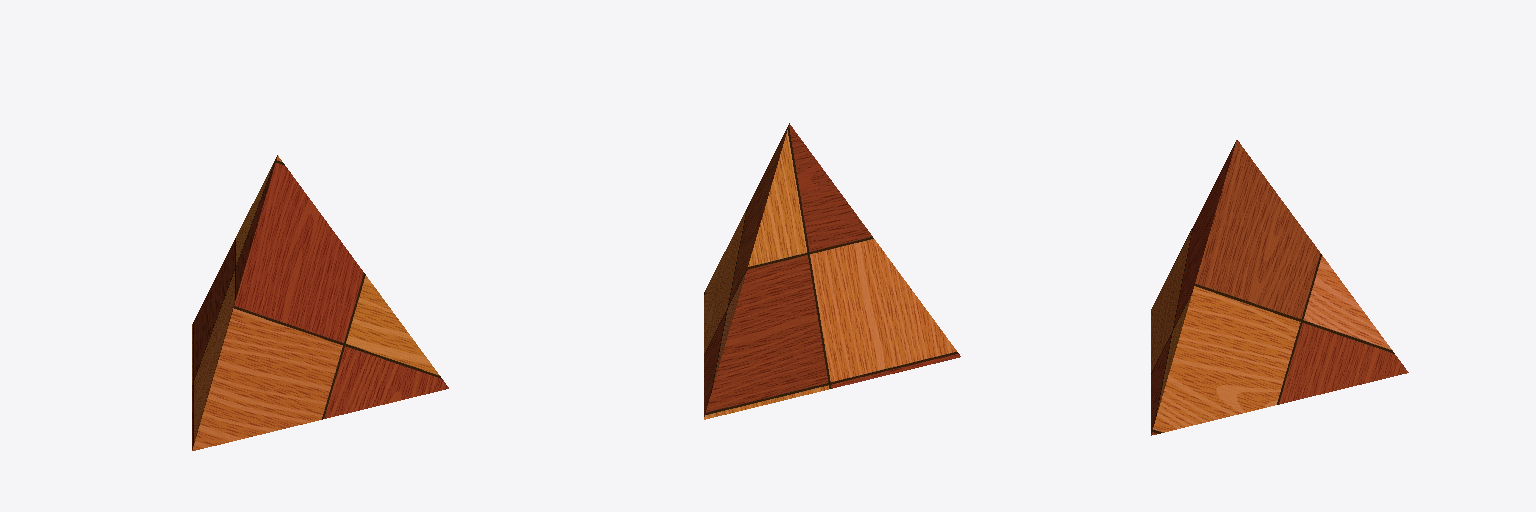
The picture shows the model from 3 angles: view 1: azimuth 30°, elevation 25°; view 2: azimuth 150°, elevation 25°; view 3: azimuth 270°, elevation 25°; orthographic projection.
Visible parts, largest first — view 1: Plane; view 2: Plane; view 3: Plane.
Boxes of the visible parts, <box> form: Plane: <box>192,155,448,450</box>; Plane: <box>704,123,960,419</box>; Plane: <box>1151,140,1408,435</box>.
Bounding box in the file's own units: 1 × 0.866 × 0.866.
Materials: 1 (1 with a texture image).